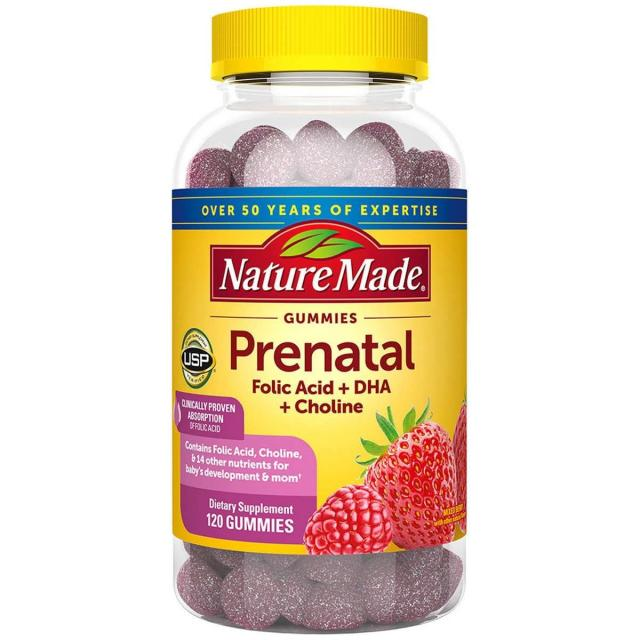food-supliment: (160, 199, 460, 532)
